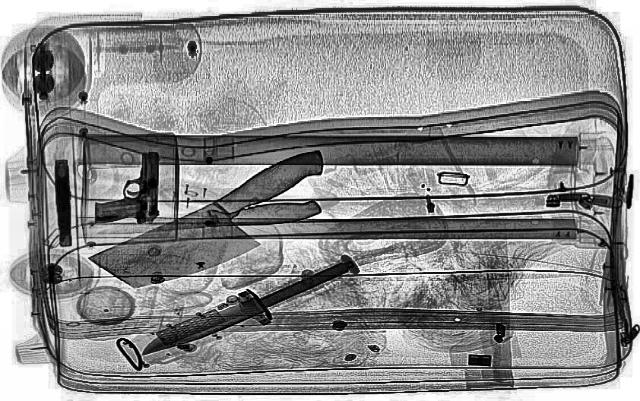Gun: (94, 150, 158, 224), (50, 158, 72, 246)
Knife: (80, 145, 378, 299), (129, 255, 355, 361), (94, 197, 323, 243)
